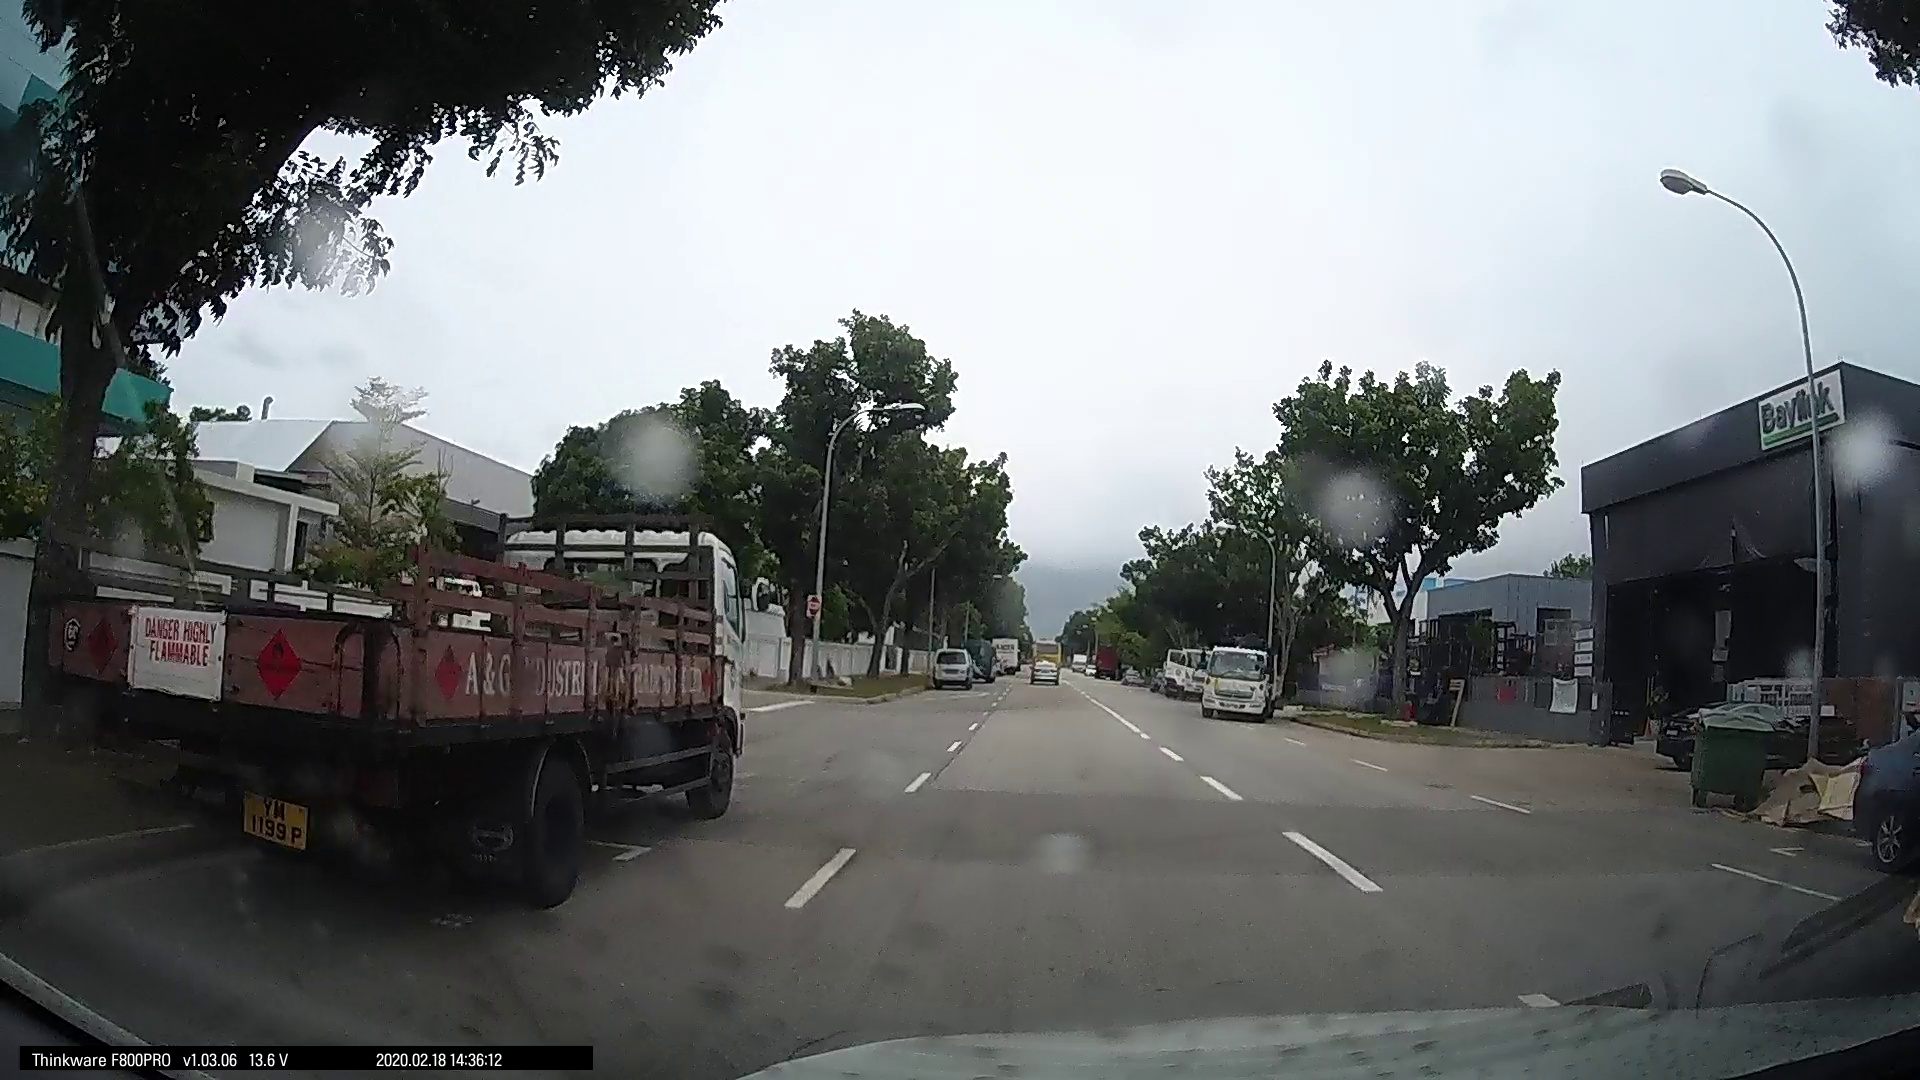Heavy Vehicle: (75, 491, 762, 884)
Light Vehicle: (1193, 641, 1273, 720), (926, 641, 982, 690), (1155, 649, 1201, 698), (1023, 646, 1059, 680)
